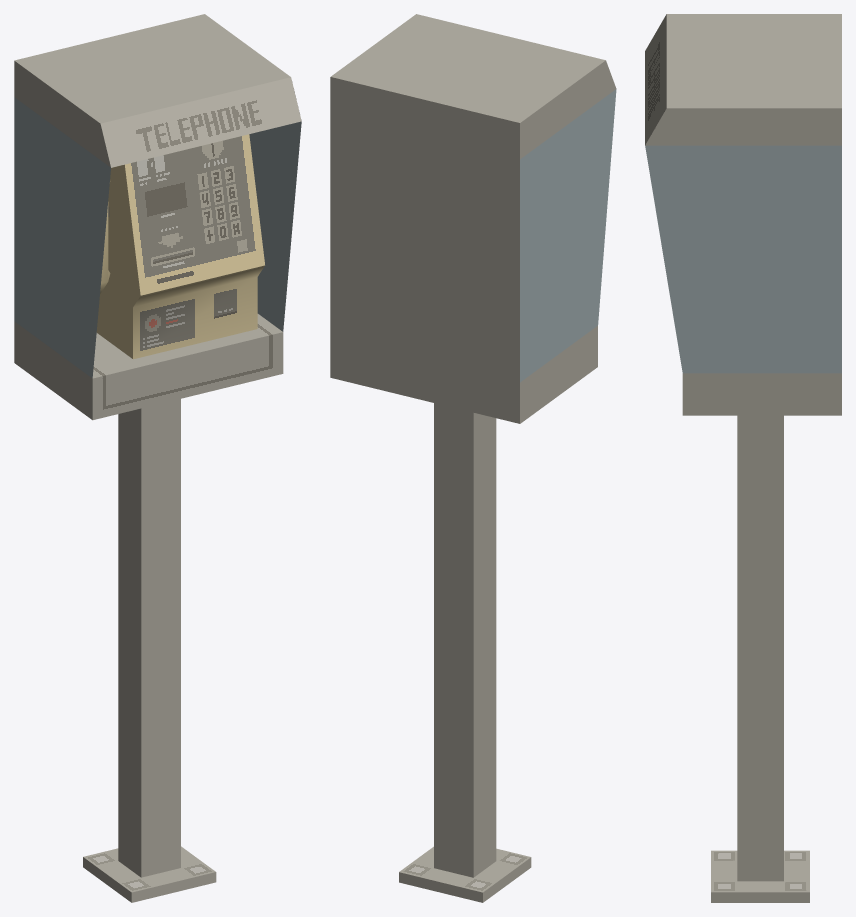
The model's file is 00b4_Pay_Phone.glb.
3 renders of one model, left to right at view 1: azimuth 30°, elevation 25°; view 2: azimuth 150°, elevation 25°; view 3: azimuth 270°, elevation 25°, orthographic. The views are drawn at different scales.
Visible parts, largest first — view 1: part_0; view 2: part_0; view 3: part_0.
Part boxes in pixels (bbox=[...]): part_0: bbox=[14, 14, 301, 902]; part_0: bbox=[330, 14, 616, 902]; part_0: bbox=[645, 14, 841, 902].
Size of the model in its own units: 0.3825 by 1.55 by 0.3368.
1 material, 1 textured.
